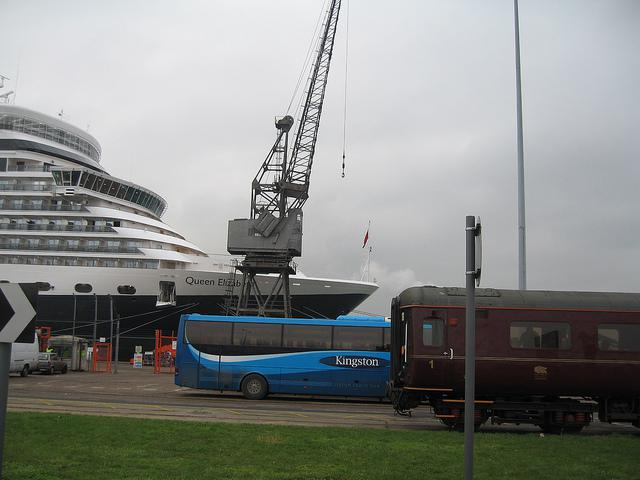Train: (391, 286, 640, 434)
